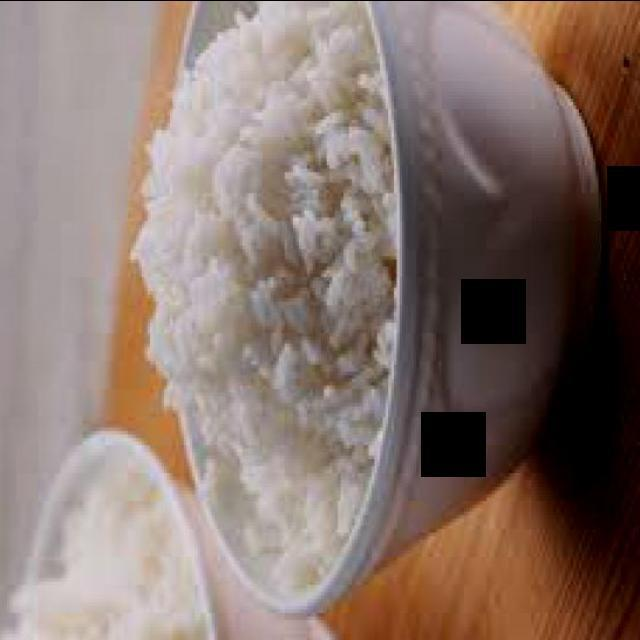rice: (128, 0, 396, 586)
